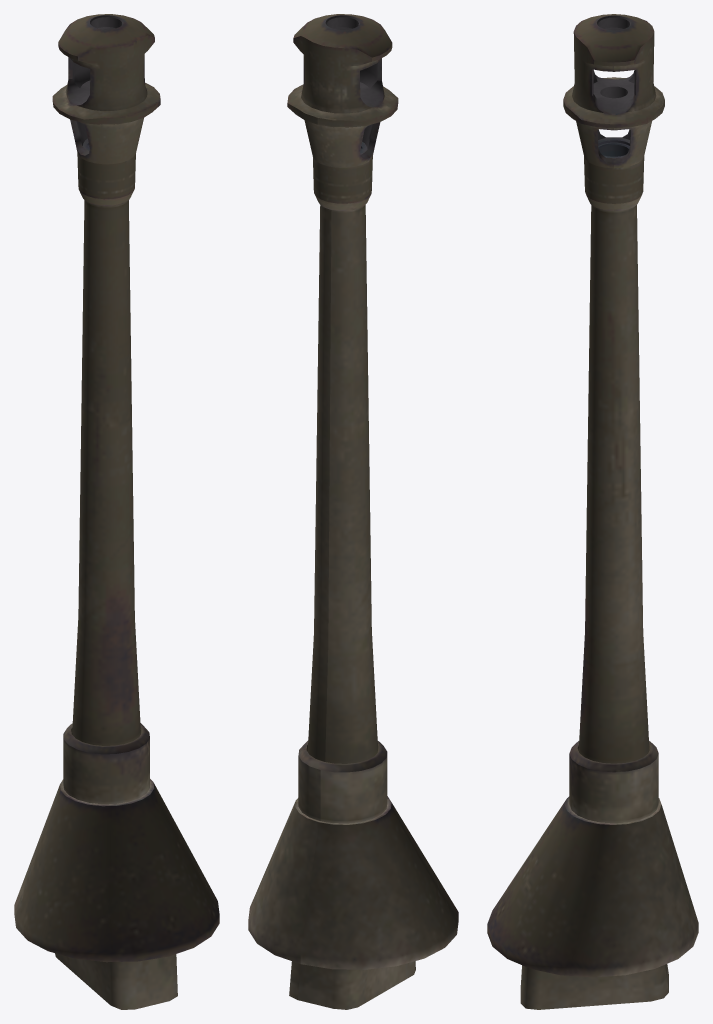
File: Gun_01.glb
3 renders of one model, left to right at view 1: azimuth 30°, elevation 25°; view 2: azimuth 150°, elevation 25°; view 3: azimuth 270°, elevation 25°, orthographic. The views are drawn at different scales.
Parts seen in each view (by area): view 1: set_0_group_0; view 2: set_0_group_0; view 3: set_0_group_0.
Part boxes in pixels (bbox=[...]): set_0_group_0: bbox=[14, 14, 219, 1009]; set_0_group_0: bbox=[248, 14, 458, 1009]; set_0_group_0: bbox=[487, 14, 698, 1009].
Size of the model in its own units: 0.4925 by 2.5 by 0.4929.
Materials: 1 (1 with a texture image).
